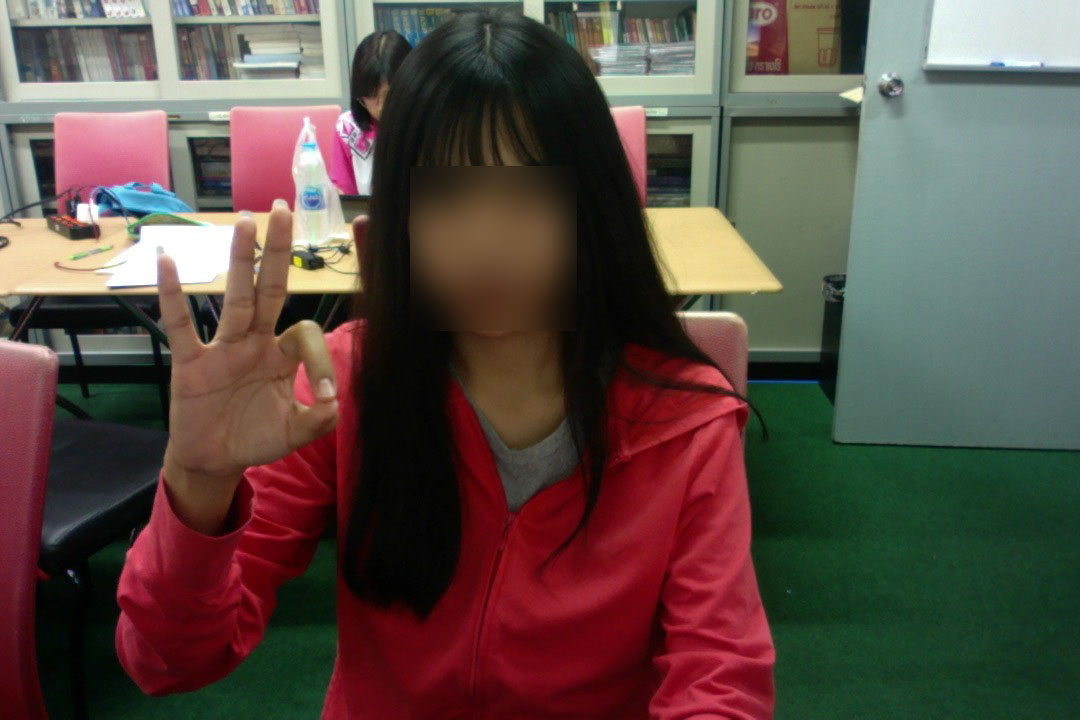for: (146, 188, 351, 473)
